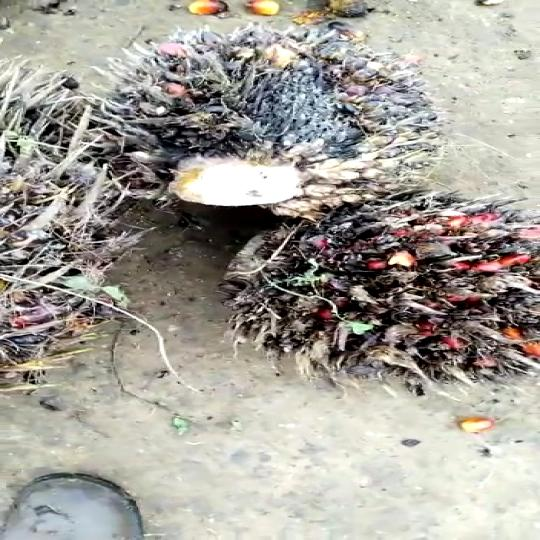terlalu masak: (204, 189, 540, 392), (81, 31, 449, 215)
